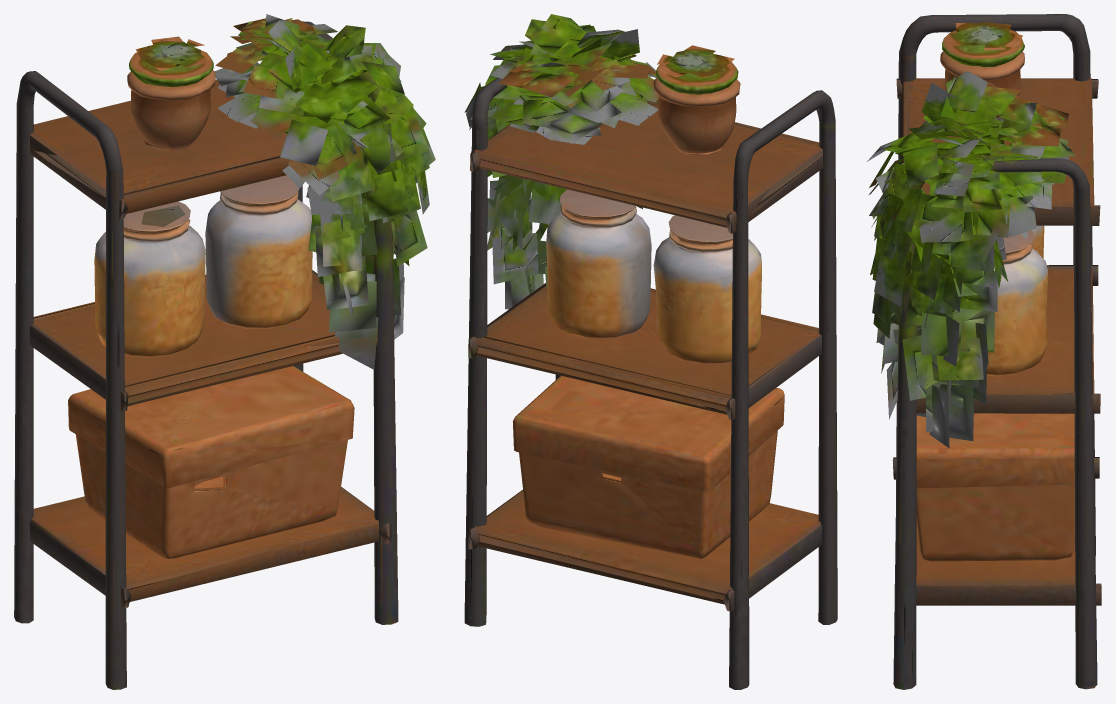
File: pantry_shelf.glb
3 views of the same model, side by side, from view 1: azimuth 30°, elevation 25°; view 2: azimuth 150°, elevation 25°; view 3: azimuth 270°, elevation 25° (orthographic). The views are drawn at different scales.
Visible parts, largest first — view 1: geometry_0; view 2: geometry_0; view 3: geometry_0.
Boxes of the visible parts, left/top/right/bottom form: geometry_0: left=14, top=14, right=435, bottom=689; geometry_0: left=464, top=14, right=837, bottom=689; geometry_0: left=867, top=14, right=1101, bottom=689.
Bounding box in the file's own units: 0.5969 × 1 × 0.3724.
Materials: 1 (1 with a texture image).
